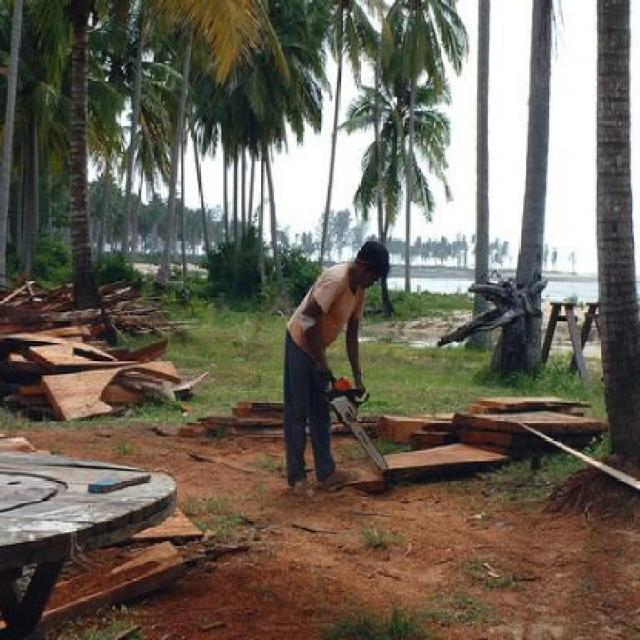Chainsaw: (320, 374, 389, 472)
